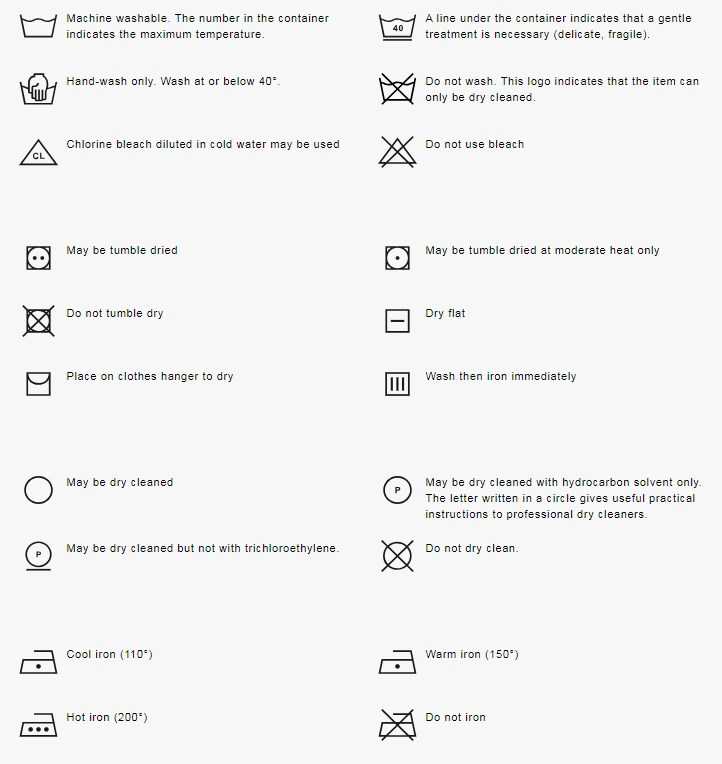do_not_bleach: (371, 126, 424, 178)
do_not_dry_clean: (377, 537, 419, 577)
do_not_iron: (373, 705, 425, 748)
do_not_wash: (374, 68, 423, 109)
